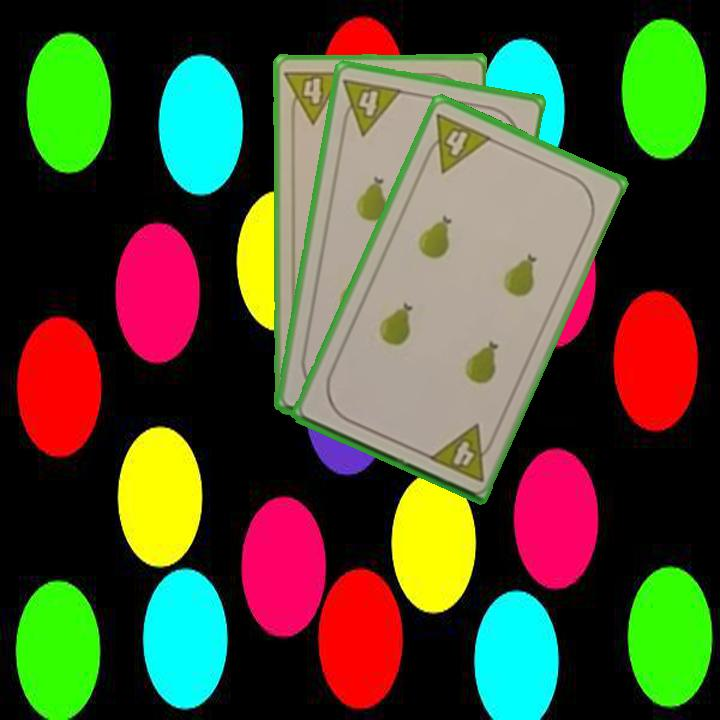4p: (418, 109, 495, 176), (424, 420, 499, 484), (337, 74, 405, 138), (281, 66, 346, 126)
